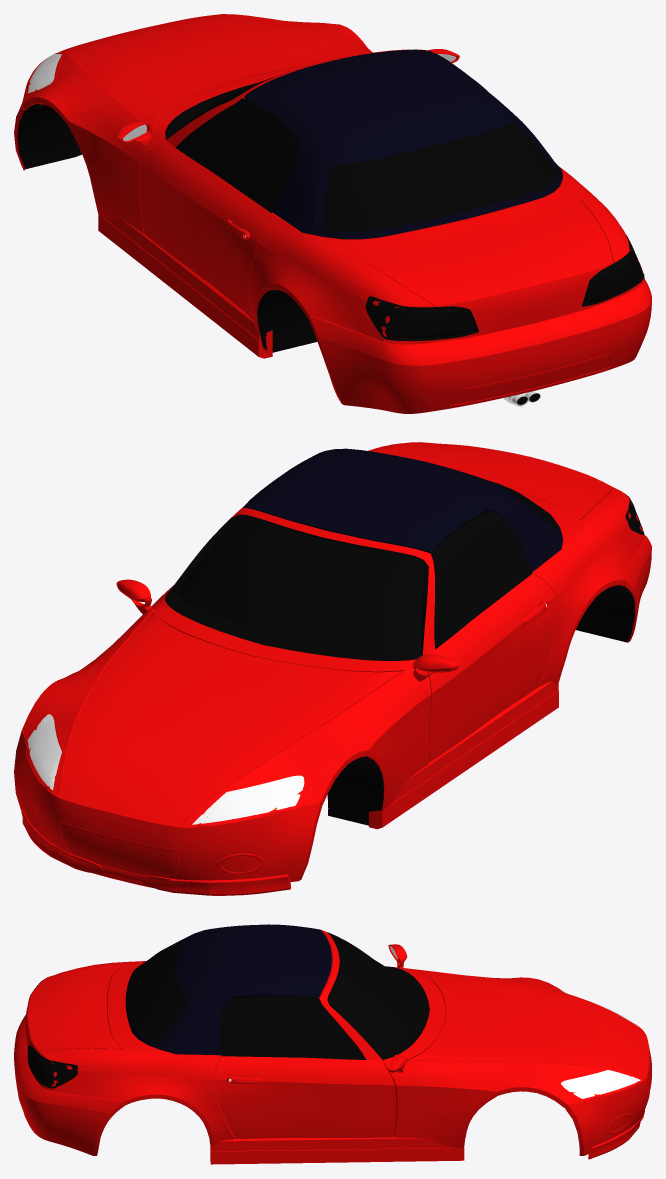
Rendered from yakisobabikini.fbx.
The picture shows the model from 3 angles, top to bottom: view 1: azimuth 30°, elevation 25°; view 2: azimuth 150°, elevation 25°; view 3: azimuth 270°, elevation 25°; orthographic projection. The views are drawn at different scales.
Parts seen in each view (by area): view 1: yakisoba_bikini; view 2: yakisoba_bikini; view 3: yakisoba_bikini.
Boxes of the visible parts, box(x1,y1,x2,y2) form: yakisoba_bikini: box(14, 14, 651, 413); yakisoba_bikini: box(14, 442, 651, 895); yakisoba_bikini: box(14, 924, 651, 1164).
Bounding box in the file's own units: 189 × 406 × 116.
